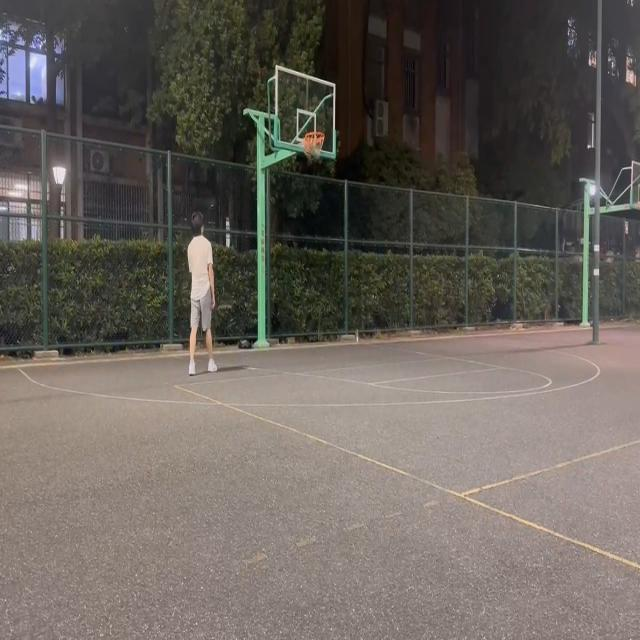basketball: (304, 132, 325, 164)
rim: (303, 137, 312, 152)
